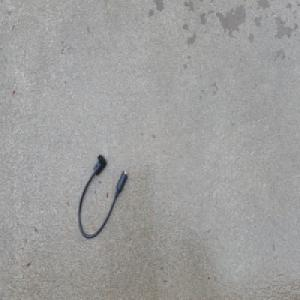Wire: (77, 151, 128, 239)
